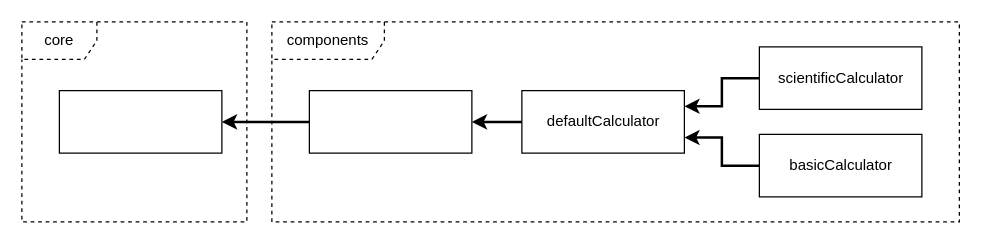
The diagram is 981 pixels wide and 244 high, and some of its shapes have lost their labels. Here are the shapes that lost their labels. From the top down, the centre of each, then its label:
point 140,121: calculatorBoard
point 390,121: calculatorComponent
